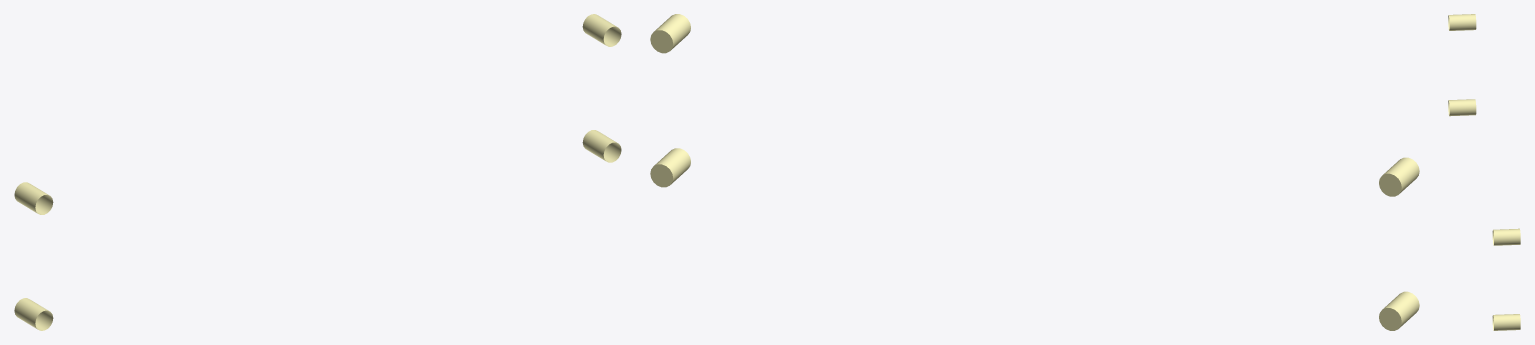
Rendered from Pfen3DE45D4A9opp_138_Pfen3DE45D4A9opp_Mesh_3.obj.
3 renders of one model, left to right at view 1: azimuth 30°, elevation 25°; view 2: azimuth 150°, elevation 25°; view 3: azimuth 270°, elevation 25°, orthographic. The views are drawn at different scales.
Parts seen in each view (by area): view 1: Mesh_Diffuse_15; view 2: Mesh_Diffuse_15; view 3: Mesh_Diffuse_15.
Part boxes in pixels (left/top/right/bottom): Mesh_Diffuse_15: left=14, top=14, right=621, bottom=330; Mesh_Diffuse_15: left=650, top=14, right=1419, bottom=330; Mesh_Diffuse_15: left=1448, top=14, right=1520, bottom=330.
Size of the model in its own units: 0.3923 by 0.082 by 0.0541.
